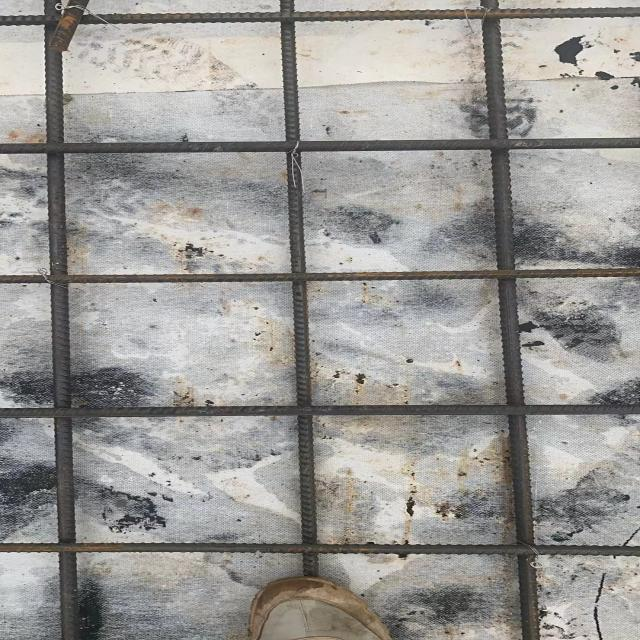ribbed bar: (482, 0, 543, 639), (280, 0, 321, 580), (41, 0, 77, 639), (0, 7, 639, 25), (0, 136, 639, 154), (0, 267, 639, 283), (0, 542, 639, 557), (0, 404, 639, 418)
